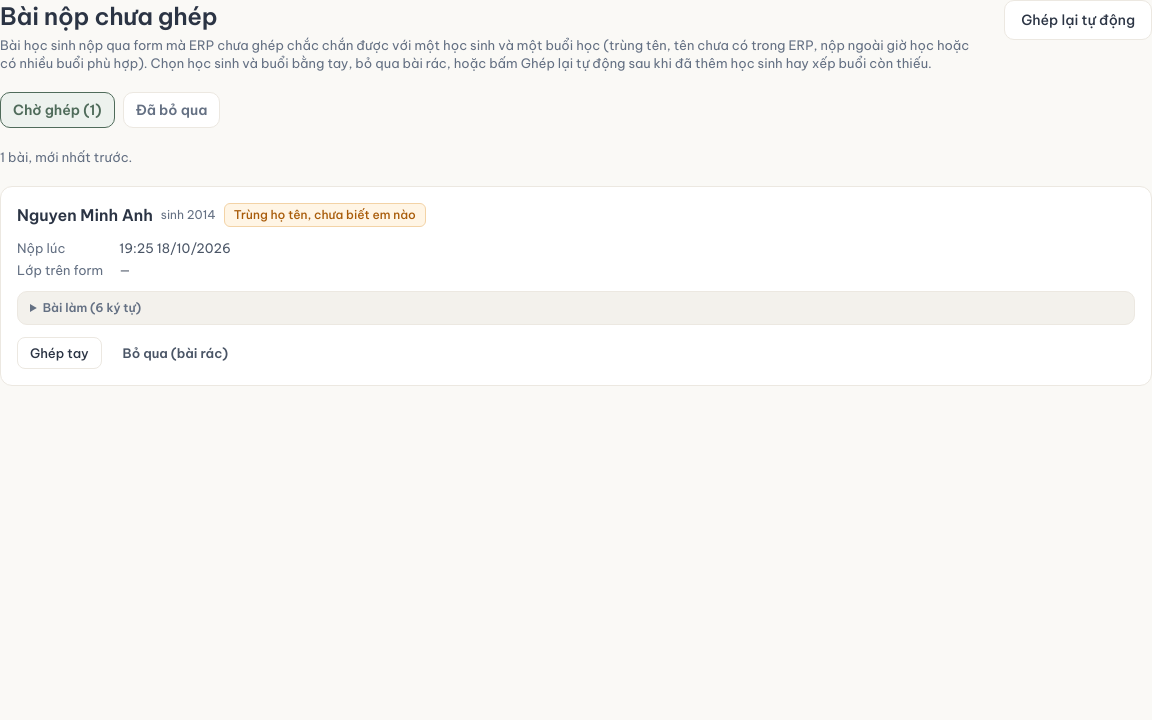
Test: manual match › filters without accents and says when a student has no session that day
Click the button "Ghép tay" at (59, 353), box x1=17 y1=337 x2=102 y2=369
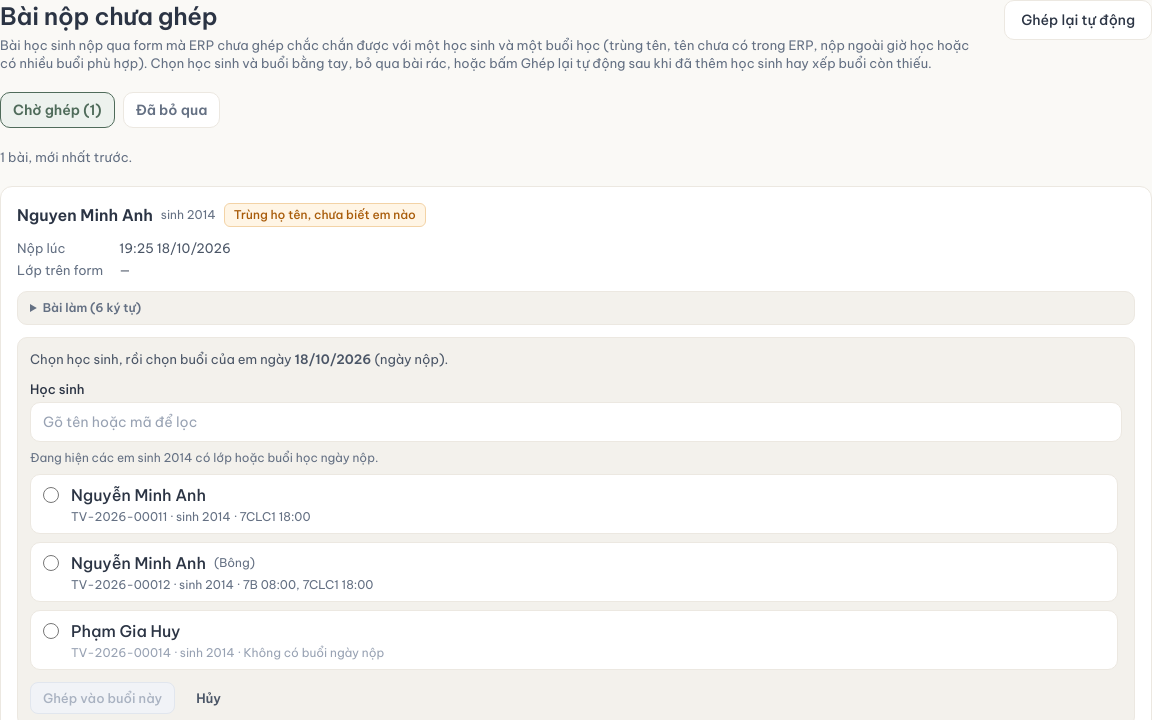
Type "pham huy" into the field named "Lọc học sinh theo tên hoặc mã" at (576, 422), box x1=30 y1=402 x2=1122 y2=442
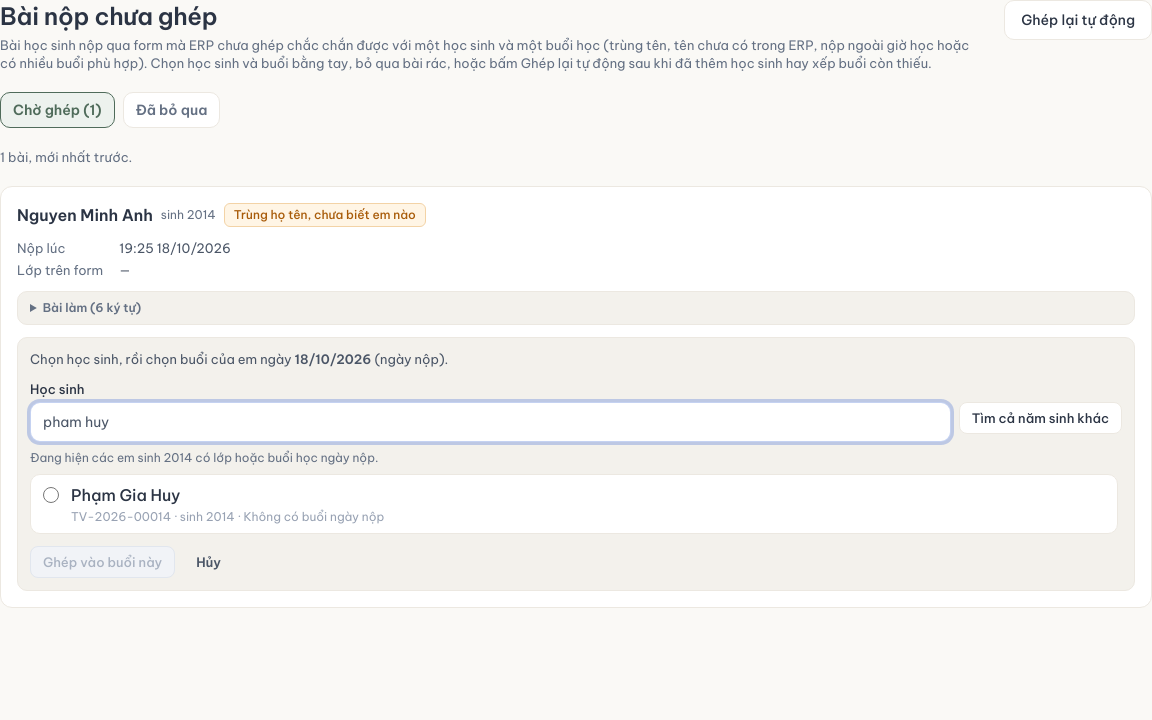
Now the number of radio buttons is 1
Click the radio button labelled "Phạm Gia Huy" at (51, 495), box x1=43 y1=487 x2=59 y2=503
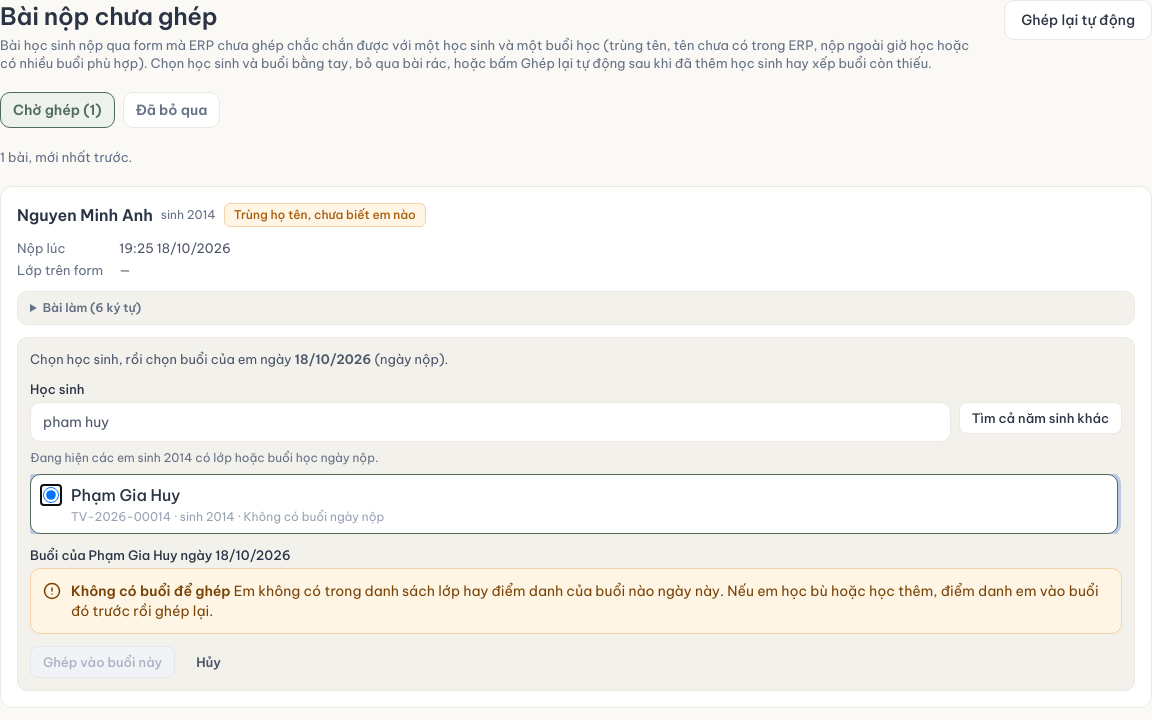
Now the button "Ghép vào buổi này" is disabled, box x1=30 y1=646 x2=175 y2=678
Now the text "Không có buổi để ghép" is shown, box x1=71 y1=582 x2=231 y2=600
